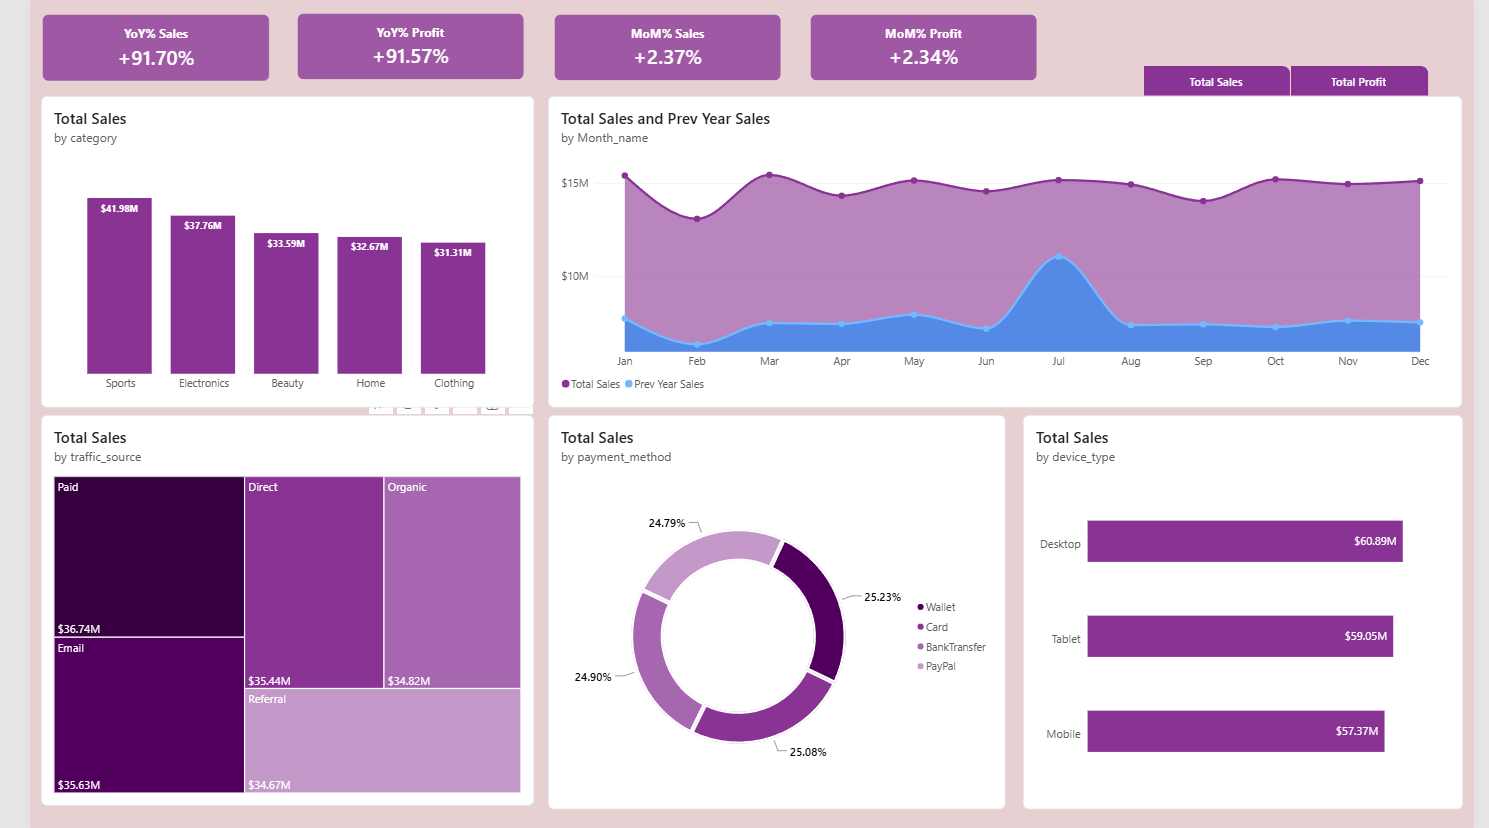

Layout of this report page (visuals, bound fields, positions):
{"tool":"powerbi","page":{"name":"Sales Analysis","canvas":[1900,1100],"ordinal":2},"visuals":[{"type":"clusteredBarChart","fields":{"Category":["vw_orders.device_type"],"Y":["Calculations.Total Sales"]},"box":[1306.5,550,578.7,518.5],"z":0,"group":"g1"},{"type":"donutChart","fields":{"Category":["vw_orders.payment_method"],"Y":["Calculations.Total Sales"]},"box":[682.7,550,602,518.5],"z":1000,"group":"g1"},{"type":"group","id":"g1","title":"Sales","box":[15,21.9,1870.3,1046.6],"z":1500},{"type":"treemap","fields":{"Group":["vw_orders.traffic_source"],"Values":["Calculations.Total Sales"]},"box":[15,550,648.5,514.4],"z":2000,"group":"g1"},{"type":"lineChart","fields":{"Category":["Date Table.Month_name"],"Y":["Calculations.Total Sales","Calculations.Prev Year Sales"]},"box":[682.7,130,1202.6,410.4],"z":3000,"group":"g1"},{"type":"columnChart","fields":{"Category":["vw_products.category"],"Y":["Calculations.Total Sales"]},"box":[15,130,648.5,410.4],"z":4000,"group":"g1"},{"type":"actionButton","box":[1659.5,90.3,180.8,39.4],"z":5000,"group":"g1"},{"type":"actionButton","box":[1466.6,90.3,192.5,39.4],"z":6000,"group":"g1"},{"type":"cardVisual","fields":{"Data":["Calculations.MoM % Profit"]},"box":[1027.4,21.9,300,80],"z":7000,"group":"g1"},{"type":"cardVisual","fields":{"Data":["Calculations.MoM %"]},"box":[690.3,21.9,300,80],"z":8000,"group":"g1"},{"type":"cardVisual","fields":{"Data":["Calculations.YoY% profit"]},"box":[353.5,24.2,299.6,79.4],"z":9000,"group":"g1"},{"type":"cardVisual","fields":{"Data":["Calculations.YOY % growth"]},"box":[16.4,21.9,300,80],"z":10000,"group":"g1"}]}

Visuals, with their boxes on the page's 1900x1100 design canvas (x1, y1, x2, y2). These are canvas units, not pixel positions in the 1489x828 screenshot, which may show the page scaled, cropped or inside an application window:
clusteredBarChart - vw_orders.device_type x Calculations.Total Sales: select_region(1306, 550, 1885, 1068)
donutChart - vw_orders.payment_method x Calculations.Total Sales: select_region(683, 550, 1285, 1068)
"Sales" group: select_region(15, 22, 1885, 1068)
treemap - vw_orders.traffic_source x Calculations.Total Sales: select_region(15, 550, 664, 1064)
lineChart - Date Table.Month_name x Calculations.Total Sales: select_region(683, 130, 1885, 540)
columnChart - vw_products.category x Calculations.Total Sales: select_region(15, 130, 664, 540)
actionButton: select_region(1660, 90, 1840, 130)
actionButton: select_region(1467, 90, 1659, 130)
cardVisual - Calculations.MoM % Profit: select_region(1027, 22, 1327, 102)
cardVisual - Calculations.MoM %: select_region(690, 22, 990, 102)
cardVisual - Calculations.YoY% profit: select_region(354, 24, 653, 104)
cardVisual - Calculations.YOY % growth: select_region(16, 22, 316, 102)
